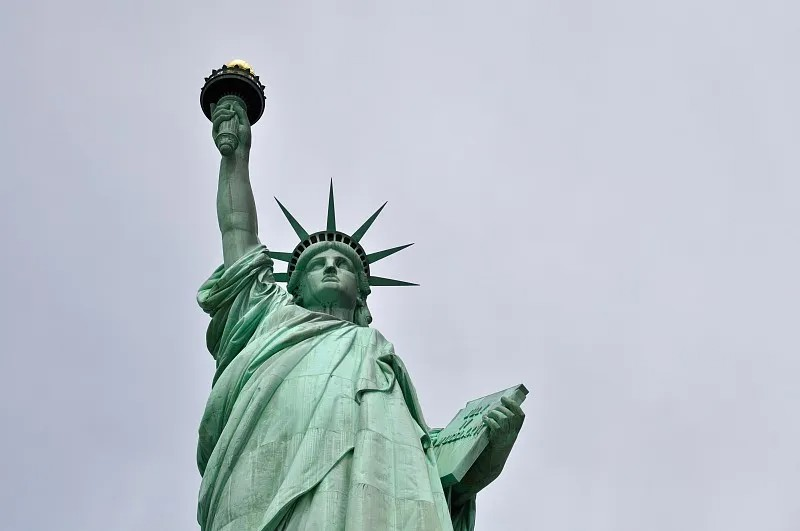SL: (196, 59, 529, 531)
